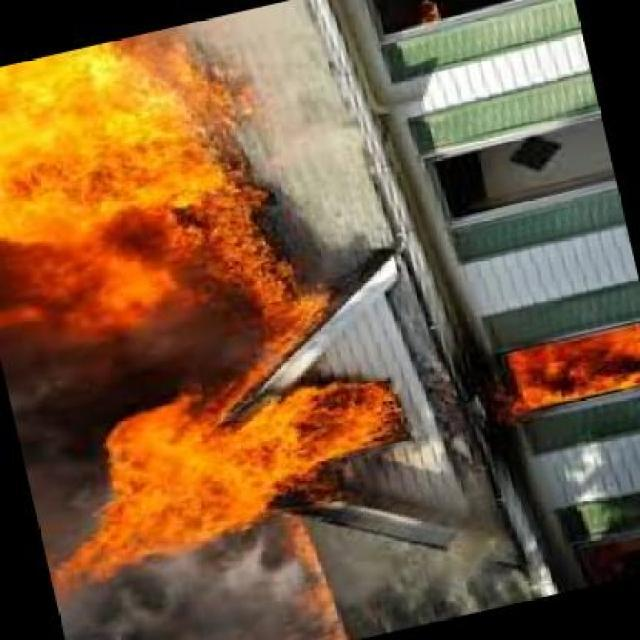Fire: (0, 46, 318, 318), (54, 374, 398, 568), (497, 310, 640, 412)
Smoke: (122, 548, 339, 638), (0, 319, 178, 402)
